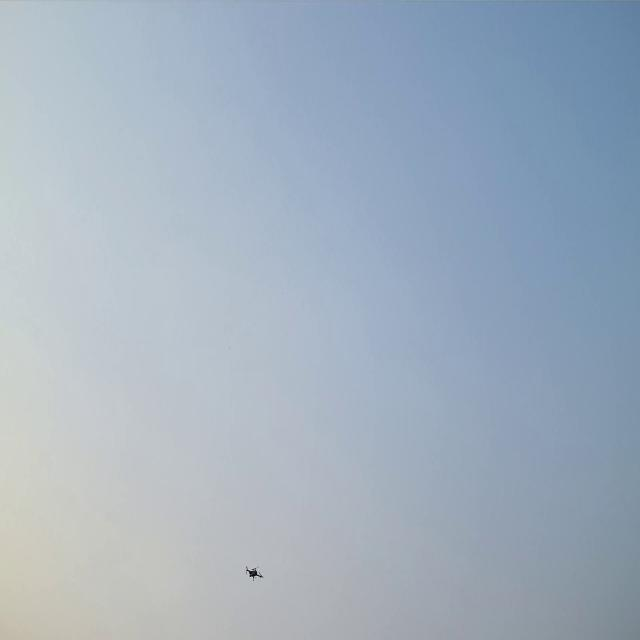UAV: (244, 563, 265, 584)
